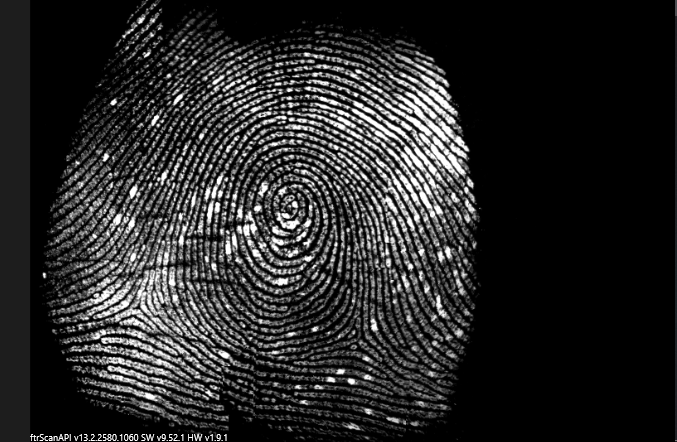deltas: (110, 282, 159, 329), (341, 312, 385, 357)
nucleo: (271, 181, 310, 223)
